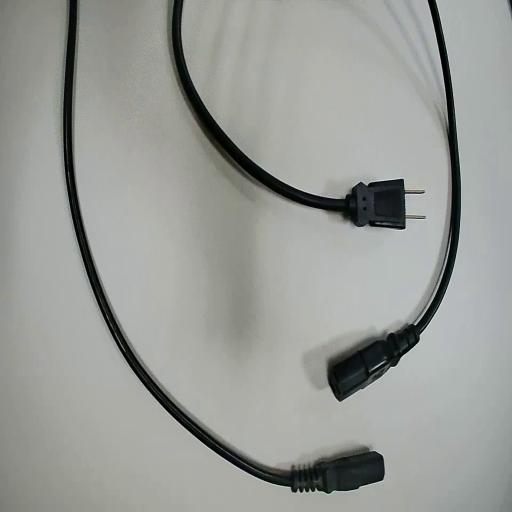wire: (63, 0, 383, 491), (171, 0, 404, 227), (328, 0, 459, 399)
